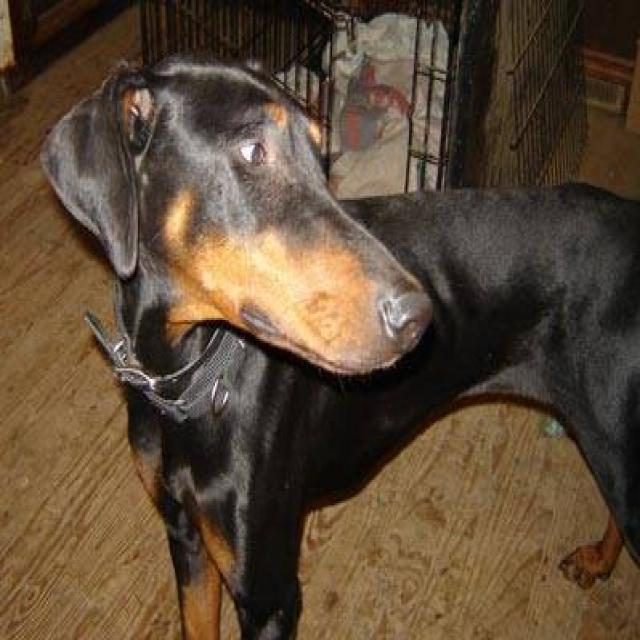dogs: (39, 45, 640, 640)
